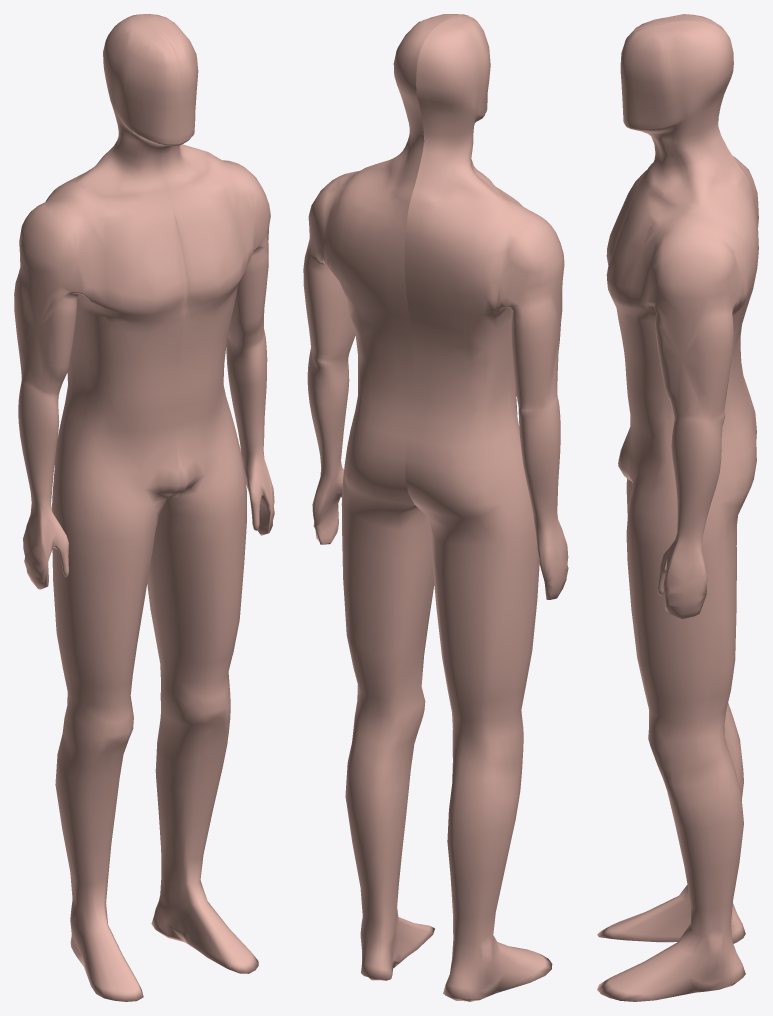
The model's file is HeroModelledNoDetail1.fbx.
The picture shows the model from 3 angles, left to right: view 1: azimuth 30°, elevation 25°; view 2: azimuth 150°, elevation 25°; view 3: azimuth 270°, elevation 25°; orthographic projection.
Parts seen in each view (by area): view 1: pCube2, pCube1; view 2: pCube2, pCube1; view 3: pCube1, pCube2.
Part boxes in pixels (left/top/right/bottom): pCube2: left=14, top=15, right=185, bottom=1001; pCube1: left=135, top=14, right=274, bottom=973; pCube2: left=404, top=15, right=568, bottom=1001; pCube1: left=303, top=14, right=464, bottom=980; pCube1: left=597, top=20, right=758, bottom=1001; pCube2: left=597, top=14, right=758, bottom=943.
Bounding box in the file's own units: 5.71 × 21.11 × 3.28.
